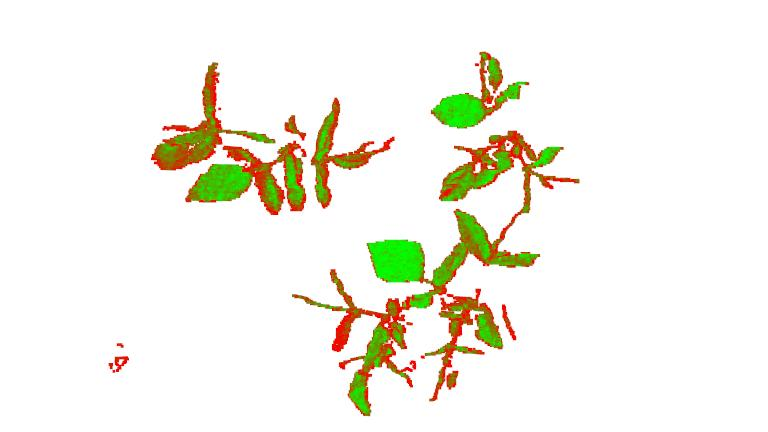mungbean: (149, 62, 387, 215), (426, 48, 561, 267), (291, 281, 420, 409), (361, 236, 508, 348)
